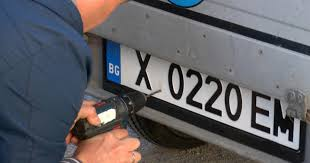registration_plate: (101, 37, 289, 151)
